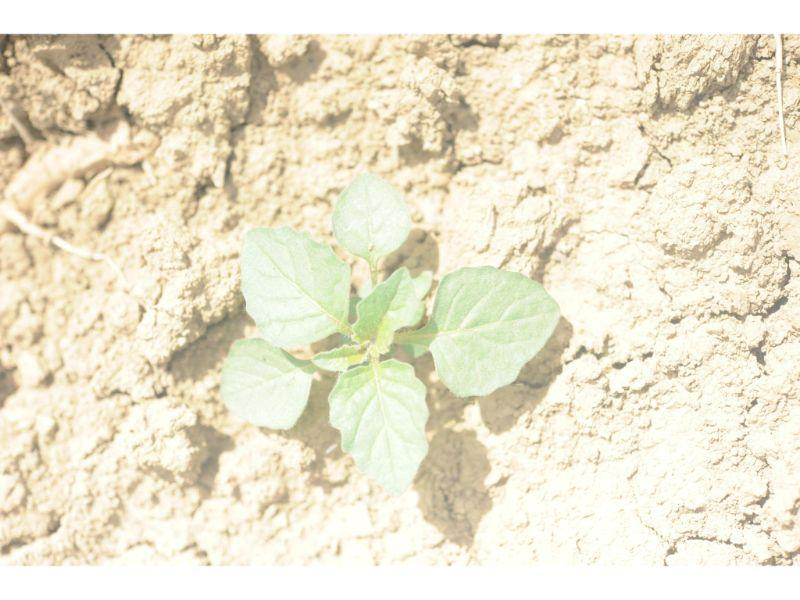nightshade: (219, 171, 560, 497)
